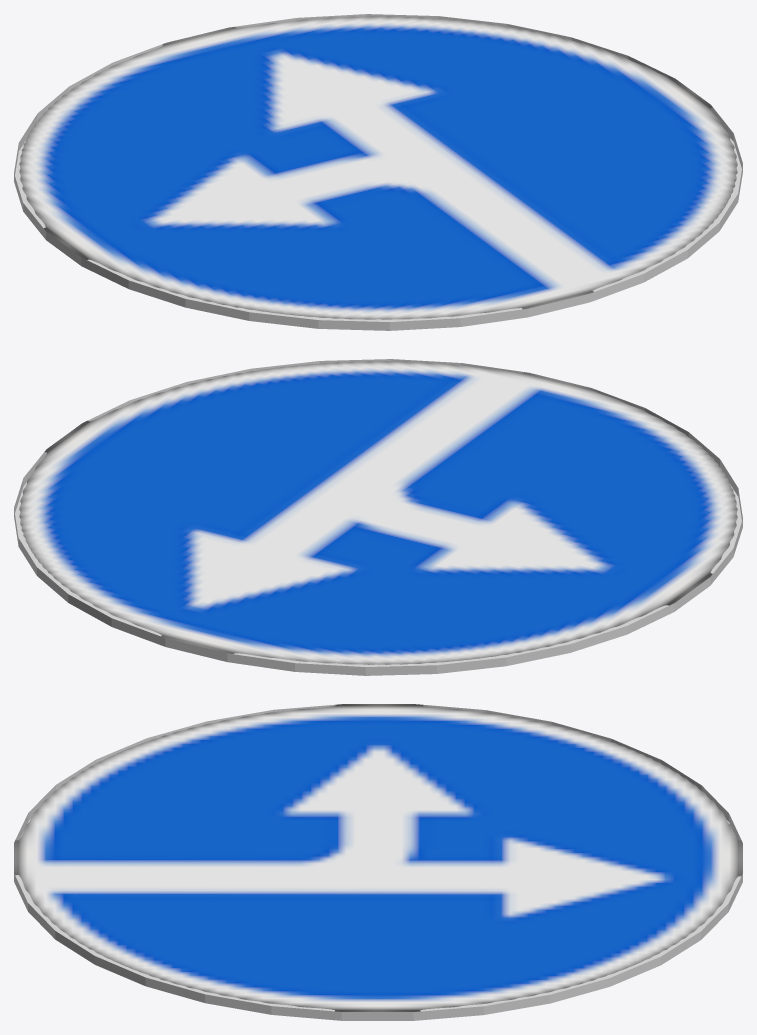
Rendered from forward-left.dae.
The picture shows the model from 3 angles, top to bottom: view 1: azimuth 30°, elevation 25°; view 2: azimuth 150°, elevation 25°; view 3: azimuth 270°, elevation 25°; orthographic projection.
Parts seen in each view (by area): view 1: Cylinder; view 2: Cylinder; view 3: Cylinder.
Part boxes in pixels (x1,y1,x2,y2): Cylinder: (14, 14, 742, 330); Cylinder: (14, 359, 742, 675); Cylinder: (14, 704, 742, 1020).
Size of the model in its own units: 0.1493 by 0.1493 by 0.002.
Materials: 2 (1 with a texture image).
